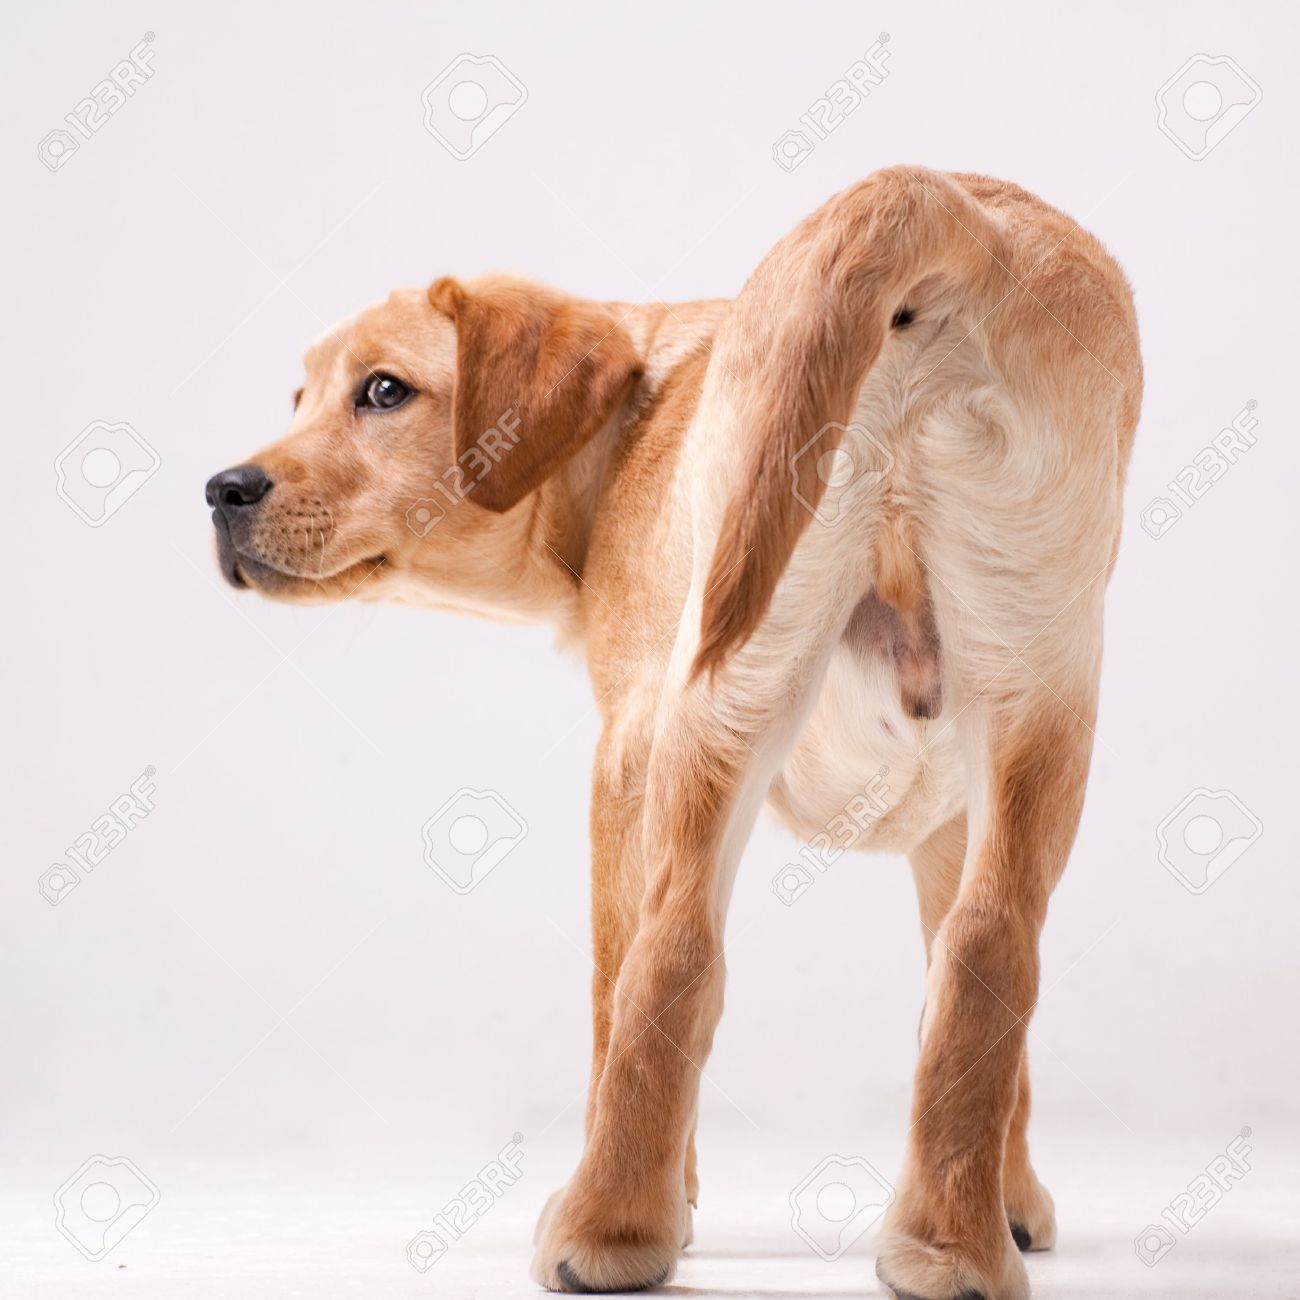dog: (208, 179, 1132, 1300)
